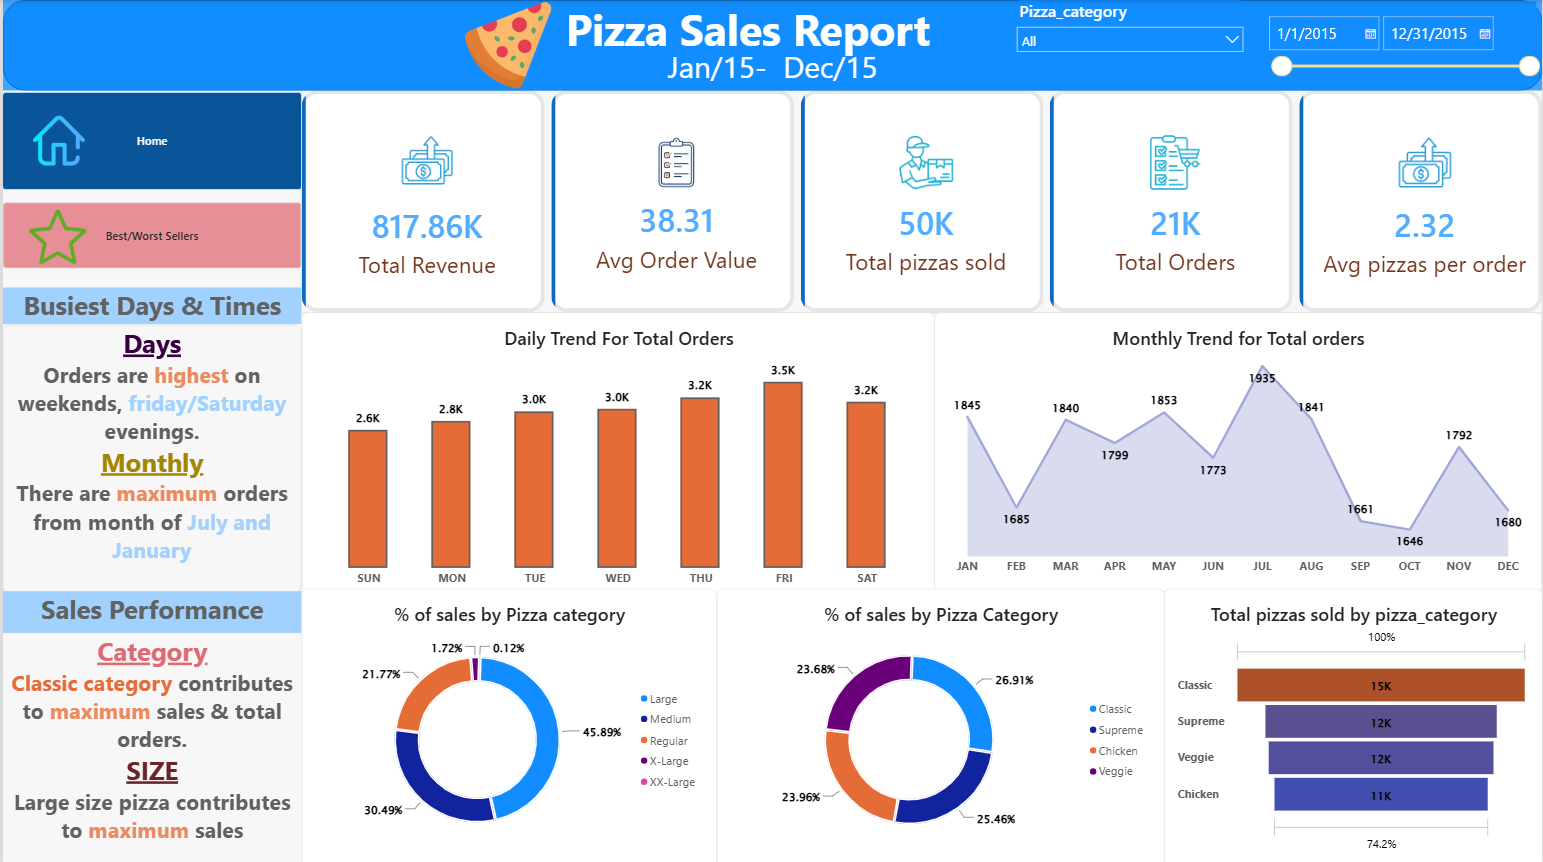

The page's visual inventory and layout, read from the dashboard file:
{"tool":"powerbi","page":{"name":"Home","canvas":[1920,1080],"ordinal":0},"visuals":[{"type":"cardVisual","fields":{"Data":["pizza_sales.Total Revenue","pizza_sales.Avg Order Value","pizza_sales.Total pizzas sold","pizza_sales.Total Orders","pizza_sales.Avg pizzas per order"]},"box":[372.2,112.5,1547.4,277],"z":0},{"type":"shape","box":[0,0,1920,113.1],"z":1000},{"type":"textbox","box":[0,0,1858.1,113.1],"z":2000},{"type":"textbox","box":[0,57.6,1920,55.5],"z":3000},{"type":"image","box":[0,0,1259.5,112.5],"z":4000},{"type":"clusteredColumnChart","title":"Daily Trend For Total Orders","fields":{"Category":["pizza_sales.Order day"],"Y":["pizza_sales.Total Orders"]},"box":[372.2,389.5,789.9,363.6],"z":5000},{"type":"areaChart","title":"Monthly Trend for Total orders","fields":{"Category":["pizza_sales.Order Month"],"Y":["pizza_sales.Total Orders"]},"box":[1162.1,389.5,757.4,348.4],"z":6000},{"type":"donutChart","title":"% of sales by Pizza Category","fields":{"Category":["pizza_sales.pizza_category"],"Y":["pizza_sales.Total Revenue"]},"box":[889.5,733.6,558.3,346.3],"z":7000},{"type":"donutChart","title":"% of sales by Pizza category","fields":{"Category":["pizza_sales.pizza_size"],"Y":["pizza_sales.Total Revenue"]},"box":[372.2,733.6,517.2,346.3],"z":8000},{"type":"funnel","fields":{"Category":["pizza_sales.pizza_category"],"Y":["pizza_sales.Total pizzas sold"]},"box":[1447.8,733.6,471.8,346.3],"z":9000},{"type":"textbox","box":[0,359.2,372.2,45.4],"z":10000},{"type":"textbox","box":[0,404.7,372.2,333.3],"z":11000},{"type":"textbox","box":[0,789.9,372.2,290],"z":12000},{"type":"textbox","box":[0,738,372.2,51.9],"z":13000},{"type":"slicer","fields":{"Values":["pizza_sales.pizza_category"]},"box":[1259.5,0,292.2,112.5],"z":14000},{"type":"slicer","fields":{"Values":["pizza_sales.order_date"]},"box":[1571.2,2.2,348.4,112.5],"z":15000},{"type":"pageNavigator","box":[0,114.7,372.2,121.2],"z":15001},{"type":"pageNavigator","box":[0,253.2,372.2,82.2],"z":15002},{"type":"image","box":[36.8,99.6,64.9,151.5],"z":15003},{"type":"image","box":[32.5,162.3,71.4,266.2],"z":15004}]}

Visuals, with their boxes in screenshot pixels (x1, y1, x2, y2), scaled from the page's 1920x1080 canvas onto the 1543x862 screenshot:
cardVisual - pizza_sales.Total Revenue x pizza_sales.Avg Order Value: <box>299,90,1542,311</box>
shape: <box>0,0,1542,90</box>
textbox: <box>0,0,1493,90</box>
textbox: <box>0,46,1542,90</box>
image: <box>0,0,1012,90</box>
"Daily Trend For Total Orders" clusteredColumnChart: <box>299,311,934,601</box>
"Monthly Trend for Total orders" areaChart: <box>934,311,1542,589</box>
"% of sales by Pizza Category" donutChart: <box>715,586,1164,861</box>
"% of sales by Pizza category" donutChart: <box>299,586,715,861</box>
funnel - pizza_sales.pizza_category x pizza_sales.Total pizzas sold: <box>1164,586,1542,861</box>
textbox: <box>0,287,299,323</box>
textbox: <box>0,323,299,589</box>
textbox: <box>0,630,299,861</box>
textbox: <box>0,589,299,630</box>
slicer - pizza_sales.pizza_category: <box>1012,0,1247,90</box>
slicer - pizza_sales.order_date: <box>1263,2,1542,92</box>
pageNavigator: <box>0,92,299,188</box>
pageNavigator: <box>0,202,299,268</box>
image: <box>30,79,82,200</box>
image: <box>26,130,83,342</box>
